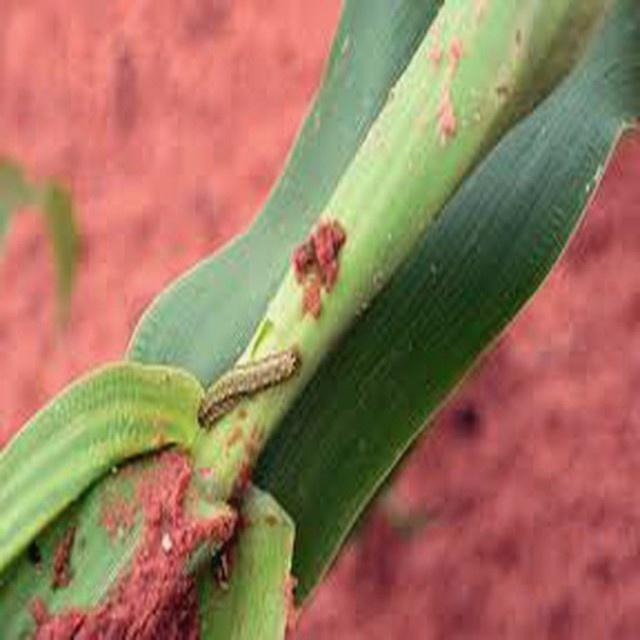gusano_cogollero: (193, 347, 305, 415)
